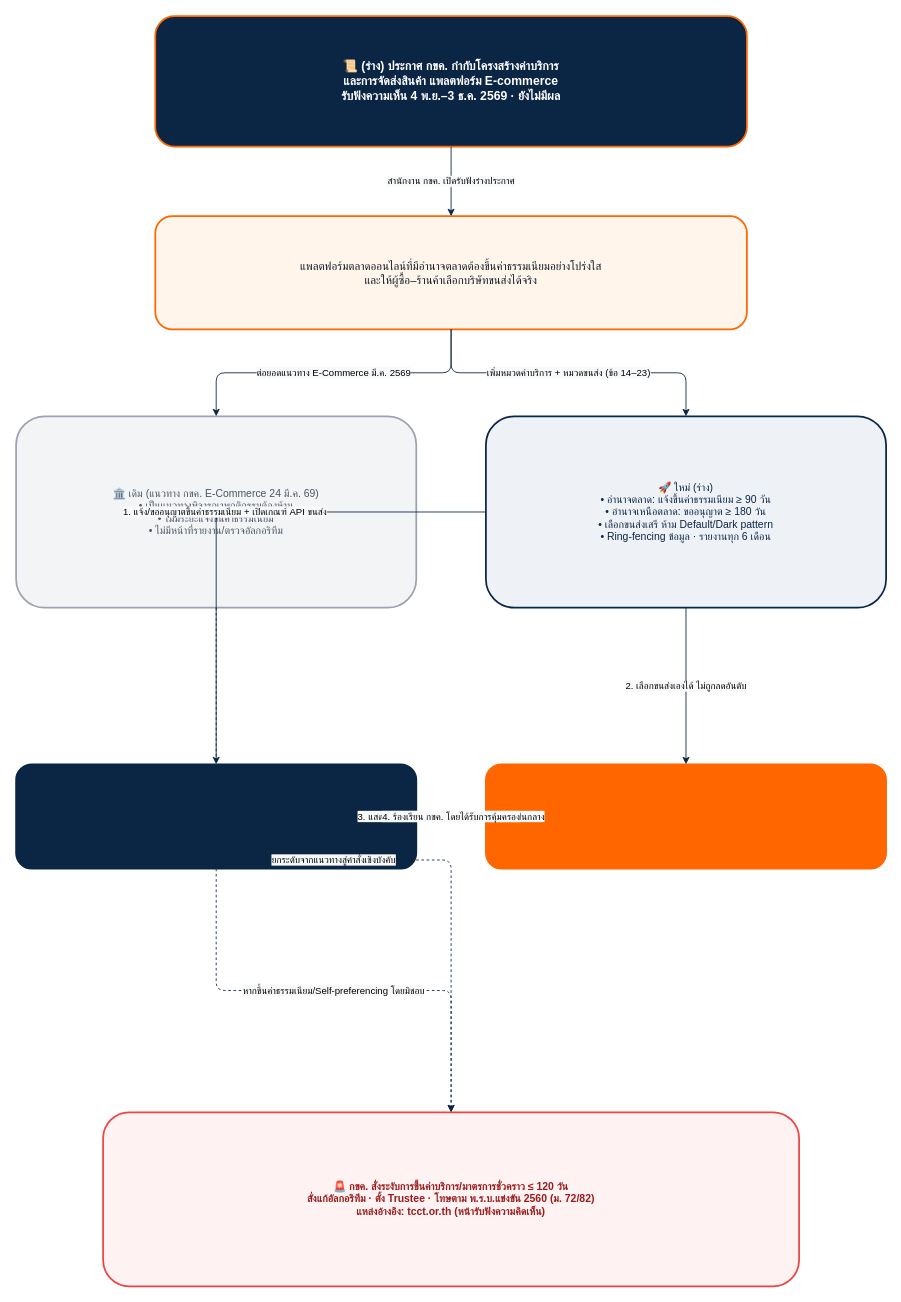
Image size: 901x1302. Some labels were removed from this diagram. Here are the shapes that lost their labels. From the top down, the box of each, then its label:
(15, 763, 417, 869): 🏢 แพลตฟอร์ม E-Marketplace (ส่วนแบ่ง ≥ 10%)
(485, 763, 887, 869): 👤 ร้านค้าออนไลน์ / ผู้ซื้อ / ผู้ขนส่ง
